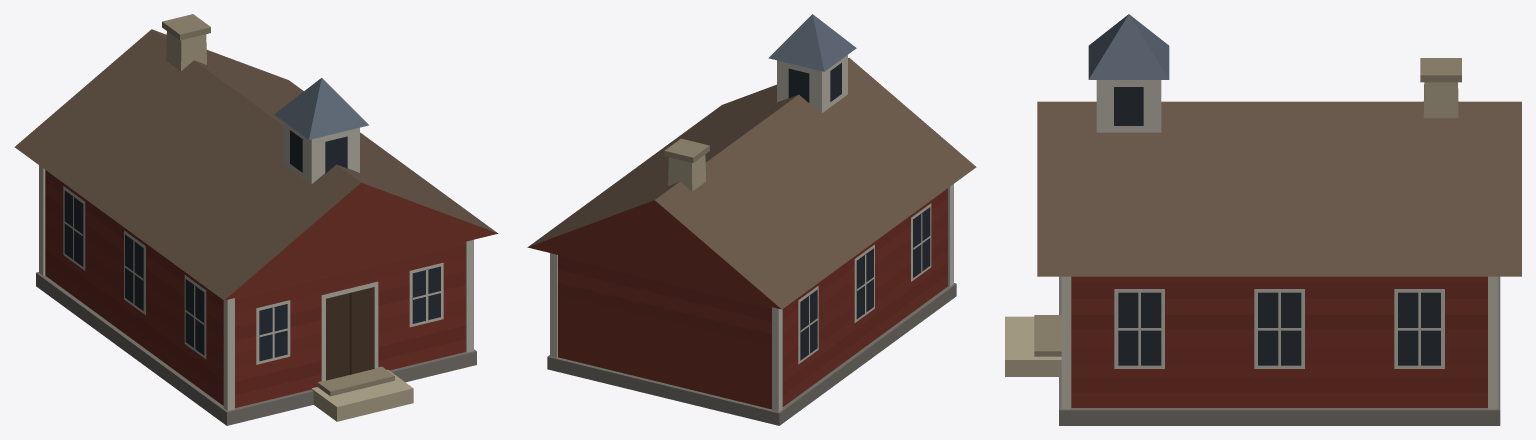
File: schoolhouse.glb
3 renders of one model, left to right at view 1: azimuth 30°, elevation 25°; view 2: azimuth 150°, elevation 25°; view 3: azimuth 270°, elevation 25°, orthographic. The views are drawn at different scales.
Parts seen in each view (by area): view 1: schoolhouse; view 2: schoolhouse; view 3: schoolhouse.
Part boxes in pixels (x1=…): schoolhouse: x1=14, y1=14, x2=497, y2=425; schoolhouse: x1=527, y1=14, x2=976, y2=425; schoolhouse: x1=1005, y1=14, x2=1521, y2=425.
Bounding box in the file's own units: 6.8 × 7 × 9.6.
